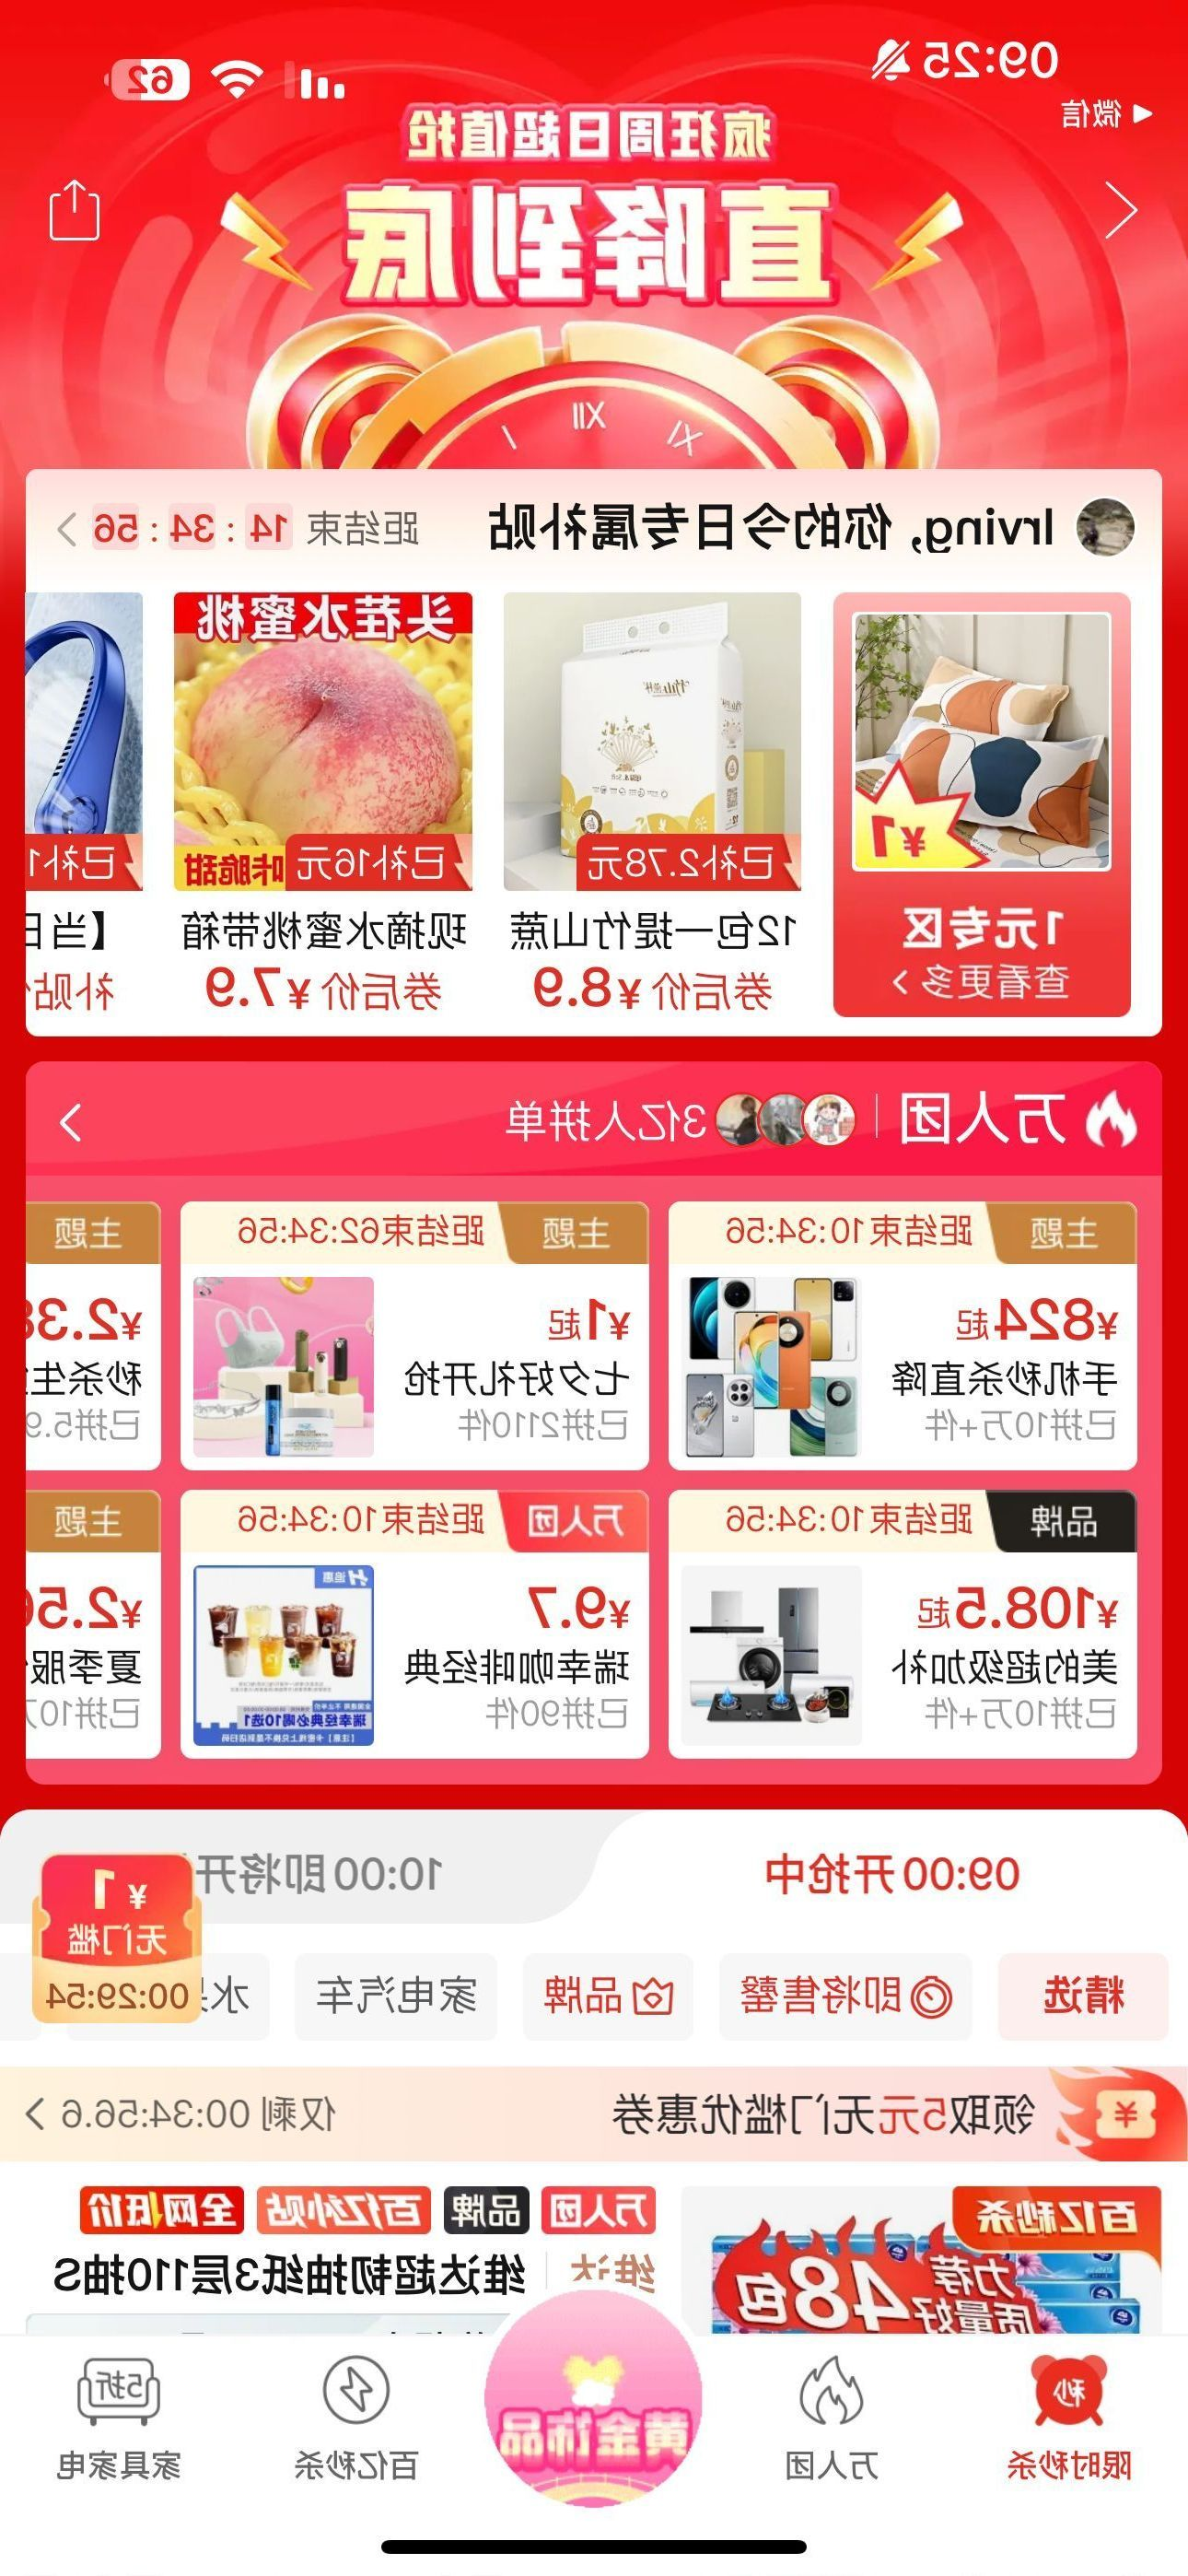banner: (10, 2055, 1188, 2178)
op_bar: (7, 161, 1188, 271)
seckill: (7, 1051, 1185, 1796), (10, 444, 1188, 1055)
